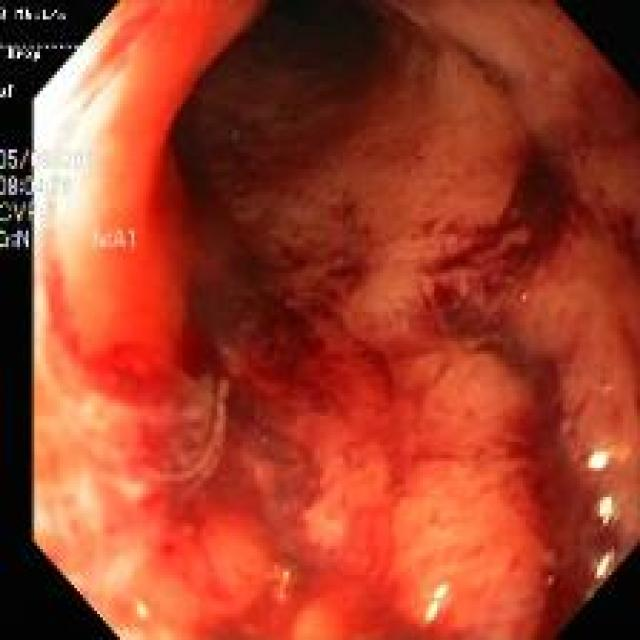ulcerative-colitis-grade-3: (171, 6, 638, 640)
